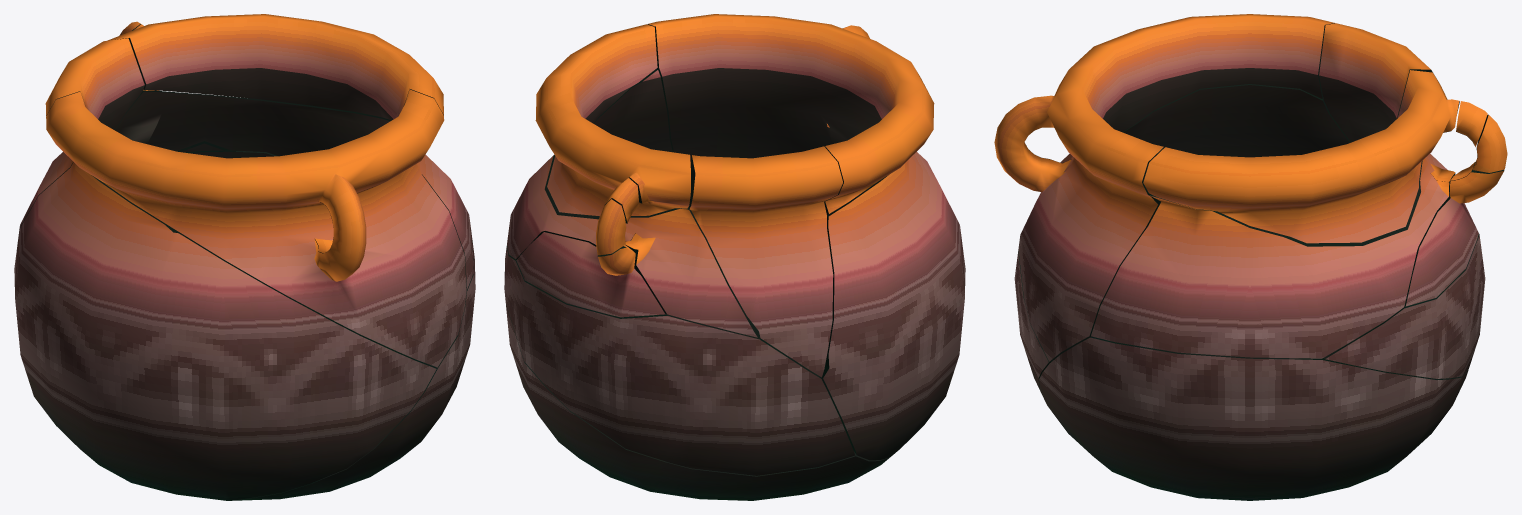
The model's file is Pot_Small_Shards.glb.
3 views of the same model, side by side, from view 1: azimuth 30°, elevation 25°; view 2: azimuth 150°, elevation 25°; view 3: azimuth 270°, elevation 25° (orthographic).
Visible parts, largest first — view 1: Shard_04, Shard_07, Shard_00, Shard_02, Shard_01, Shard_09, Shard_08; view 2: Shard_08, Shard_07, Shard_04, Shard_09, Shard_00, Shard_02, Shard_01, Shard_06, Shard_05, Shard_03; view 3: Shard_01, Shard_07, Shard_02, Shard_00, Shard_04, Shard_08, Shard_09, Shard_06, Shard_05, Shard_03.
Boxes of the visible parts, x1,y1,x2,y2 form: Shard_04: [14, 162, 436, 500]; Shard_07: [46, 89, 466, 367]; Shard_00: [108, 14, 443, 120]; Shard_02: [115, 90, 473, 289]; Shard_01: [49, 240, 475, 500]; Shard_09: [17, 38, 144, 247]; Shard_08: [136, 150, 277, 232]; Shard_08: [504, 247, 854, 475]; Shard_07: [647, 14, 934, 214]; Shard_04: [819, 152, 965, 460]; Shard_09: [689, 146, 842, 377]; Shard_00: [535, 24, 690, 216]; Shard_02: [507, 68, 759, 337]; Shard_01: [504, 246, 889, 500]; Shard_06: [516, 232, 664, 317]; Shard_05: [596, 199, 626, 255]; Shard_03: [604, 178, 639, 223]; Shard_01: [1039, 337, 1468, 500]; Shard_07: [994, 14, 1334, 361]; Shard_02: [1091, 153, 1455, 358]; Shard_00: [1143, 70, 1459, 243]; Shard_04: [1014, 84, 1350, 388]; Shard_08: [1324, 203, 1485, 378]; Shard_09: [1319, 23, 1438, 142]; Shard_06: [1405, 162, 1504, 306]; Shard_05: [1473, 114, 1507, 172]; Shard_03: [1456, 101, 1487, 146].
Size of the model in its own units: 0.4388 by 0.3568 by 0.4847.
1 material, 1 textured.
